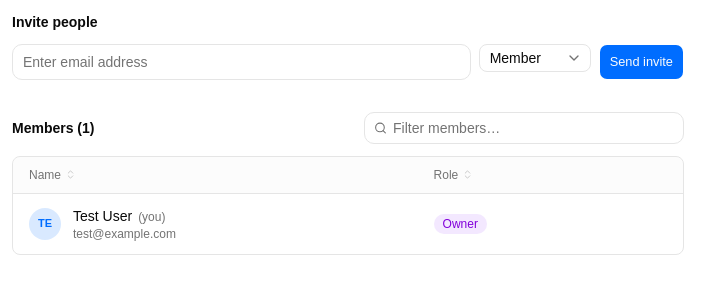
Test: invite section › shows the error from the hook below the inputs on failure
expect the text "Test User" is shown: met, box [73,208,132,224]
Type "existing@example.com" into the field with placeholder "Enter email address".
click(241, 62); type("existing@example.com")  # box [12,44,471,80]
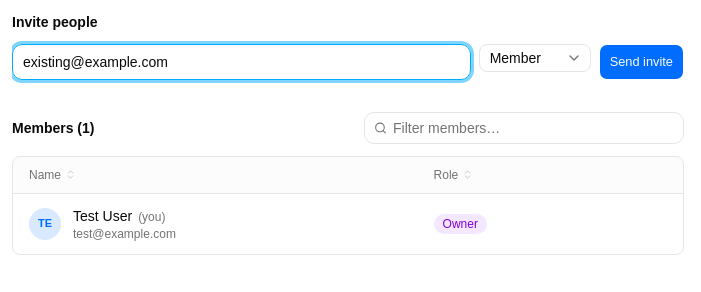
Click the button "Send invite".
click(641, 62)  # box [599,44,684,80]
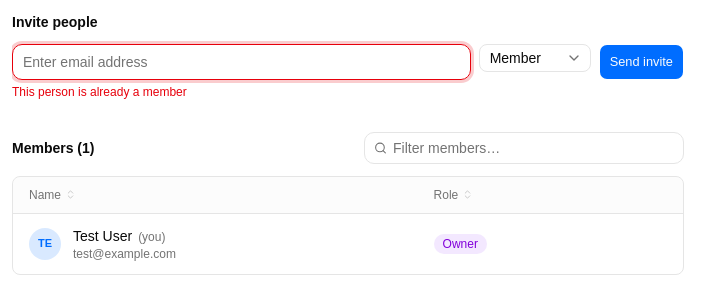
expect the text "This person is already a member" is shown: met, box [12,85,187,99]
